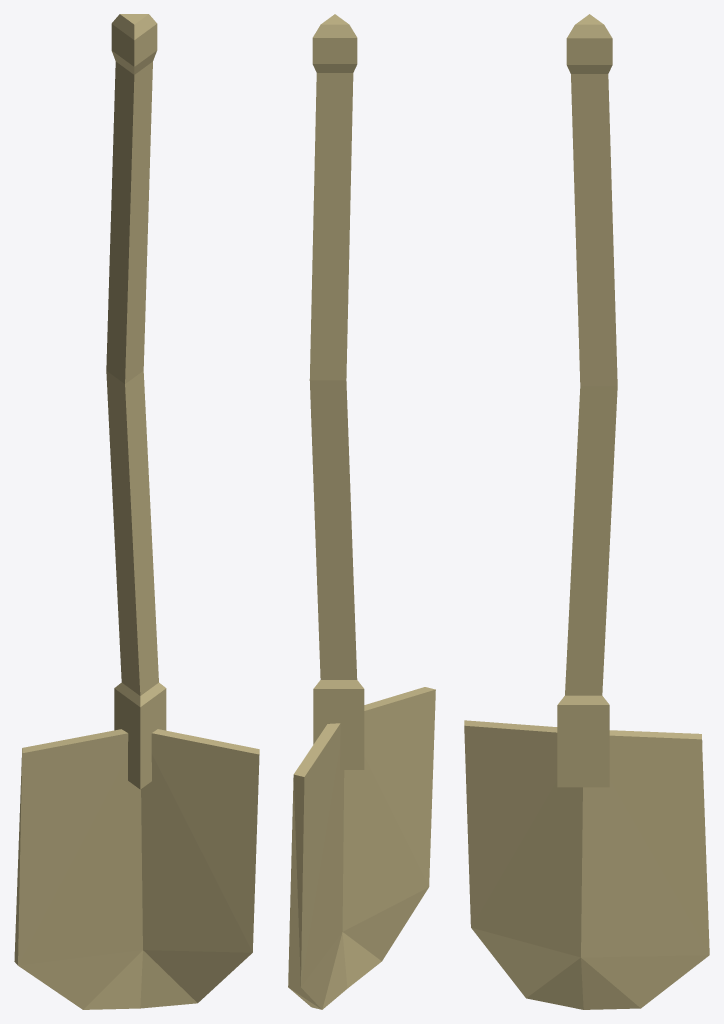
File: wooden_shovel.glb
The picture shows the model from 3 angles, left to right: view 1: azimuth 90°, elevation 25°; view 2: azimuth 150°, elevation 25°; view 3: azimuth 270°, elevation 25°; orthographic projection. The views are drawn at different scales.
Parts seen in each view (by area): view 1: Circle; view 2: Circle; view 3: Circle.
Boxes of the visible parts, box(x1,y1,x2,y2) form: Circle: box(14, 14, 259, 1009); Circle: box(288, 14, 435, 1009); Circle: box(464, 14, 709, 1009).
Bounding box in the file's own units: 0.0749 × 1.35 × 0.304.
